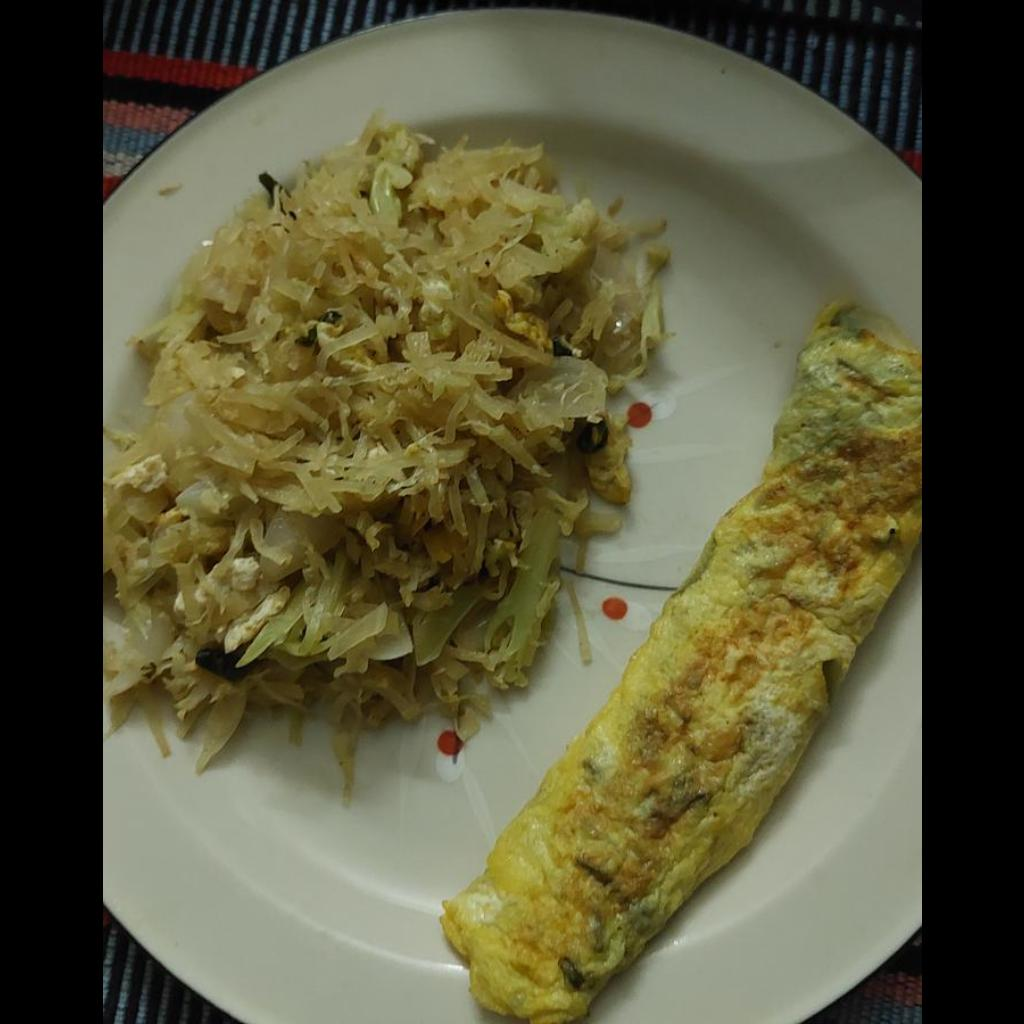cabbage: (103, 117, 663, 779)
egg-poached: (438, 302, 919, 1022)
